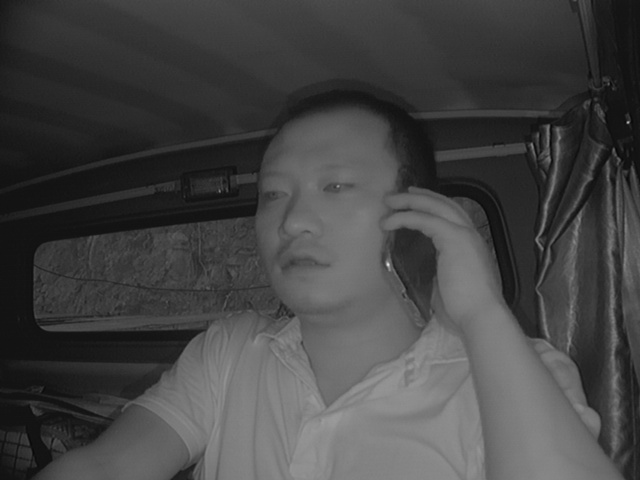hand: (390, 185, 497, 332)
